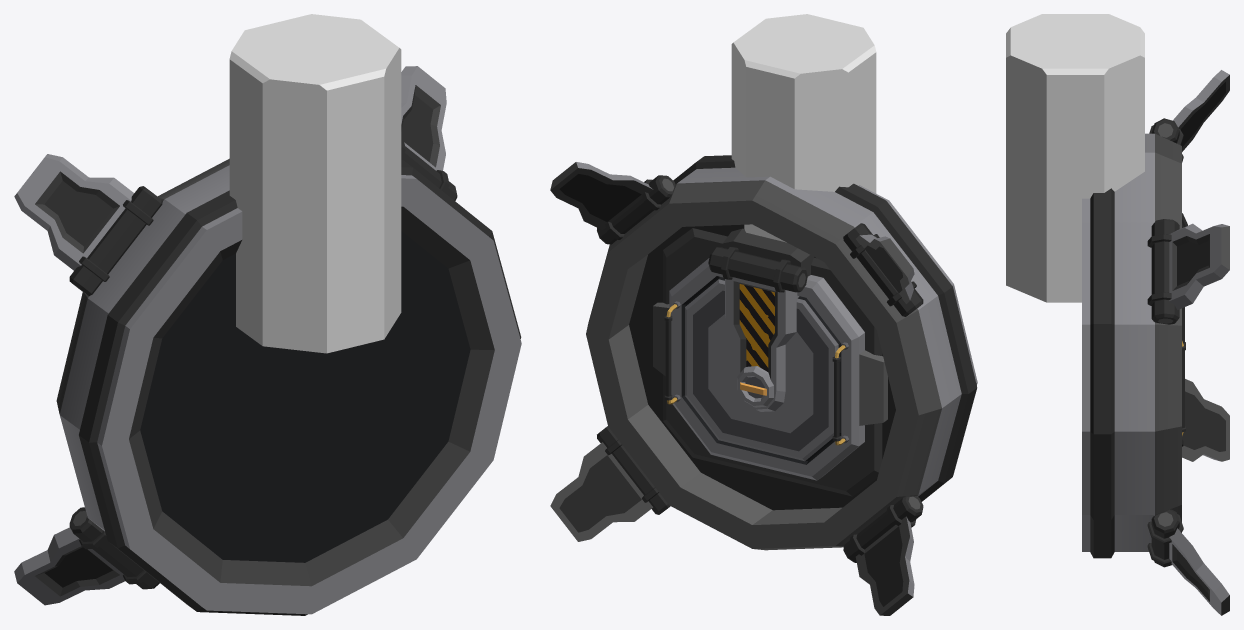
Rendered from SM_Prop_SpaceWalk_End_01.fbx.
3 views of the same model, side by side, from view 1: azimuth 30°, elevation 25°; view 2: azimuth 150°, elevation 25°; view 3: azimuth 270°, elevation 25° (orthographic). The views are drawn at different scales.
Parts seen in each view (by area): view 1: SM_Prop_SpaceWalk_End_01_LOD0, SM_Prop_SpaceWalk_End_01_ConvexHulls; view 2: SM_Prop_SpaceWalk_End_01_LOD0, SM_Prop_SpaceWalk_End_01_ConvexHulls; view 3: SM_Prop_SpaceWalk_End_01_LOD0, SM_Prop_SpaceWalk_End_01_ConvexHulls.
Part boxes in pixels (<box>): SM_Prop_SpaceWalk_End_01_LOD0: <box>14,66,521,615</box>; SM_Prop_SpaceWalk_End_01_ConvexHulls: <box>229,14,401,353</box>; SM_Prop_SpaceWalk_End_01_LOD0: <box>550,155,977,615</box>; SM_Prop_SpaceWalk_End_01_ConvexHulls: <box>731,14,876,242</box>; SM_Prop_SpaceWalk_End_01_LOD0: <box>1082,70,1229,615</box>; SM_Prop_SpaceWalk_End_01_ConvexHulls: <box>1006,14,1144,302</box>.
Size of the model in its own units: 193 by 373 by 474.
Materials: 1 (1 with a texture image).
